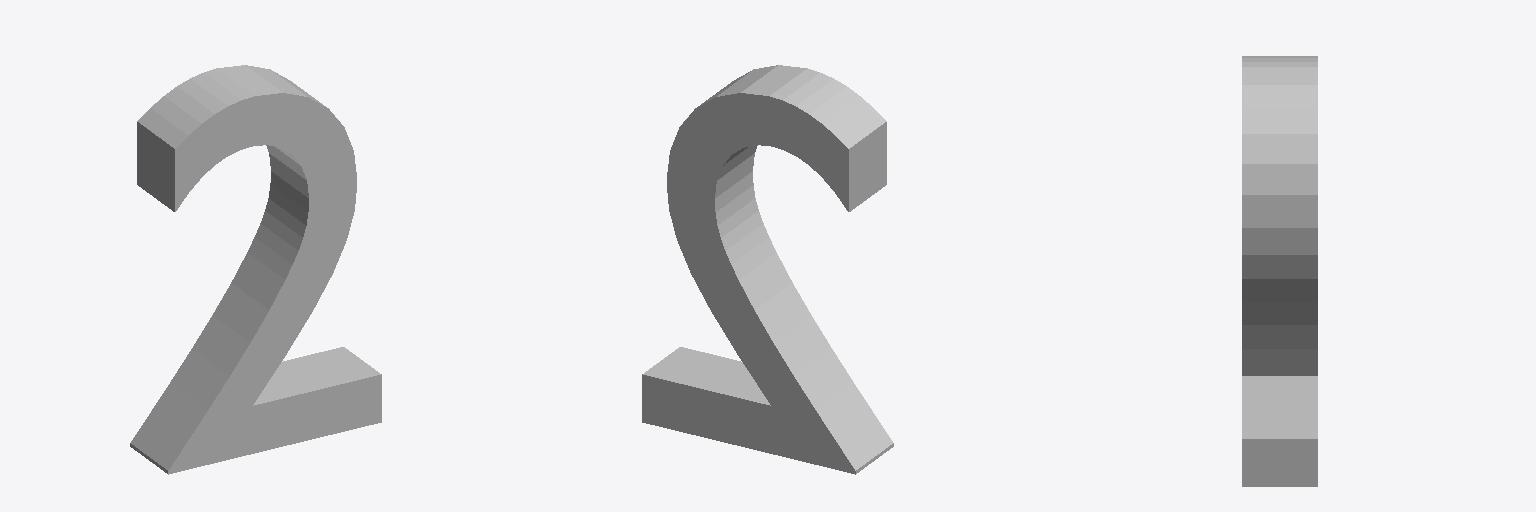
The picture shows the model from 3 angles: view 1: azimuth 30°, elevation 25°; view 2: azimuth 150°, elevation 25°; view 3: azimuth 270°, elevation 25°; orthographic projection.
Visible parts, largest first — view 1: テキスト.002; view 2: テキスト.002; view 3: テキスト.002.
Part boxes in pixels (left/top/right/bottom): テキスト.002: left=130, top=65, right=381, bottom=474; テキスト.002: left=642, top=65, right=893, bottom=474; テキスト.002: left=1242, top=56, right=1317, bottom=486.
Size of the model in its own units: 1.3 by 2.07 by 0.4.